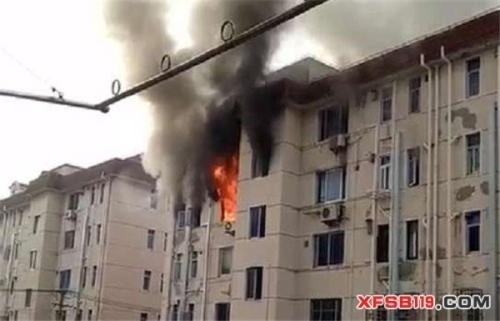fire: (210, 144, 242, 220)
